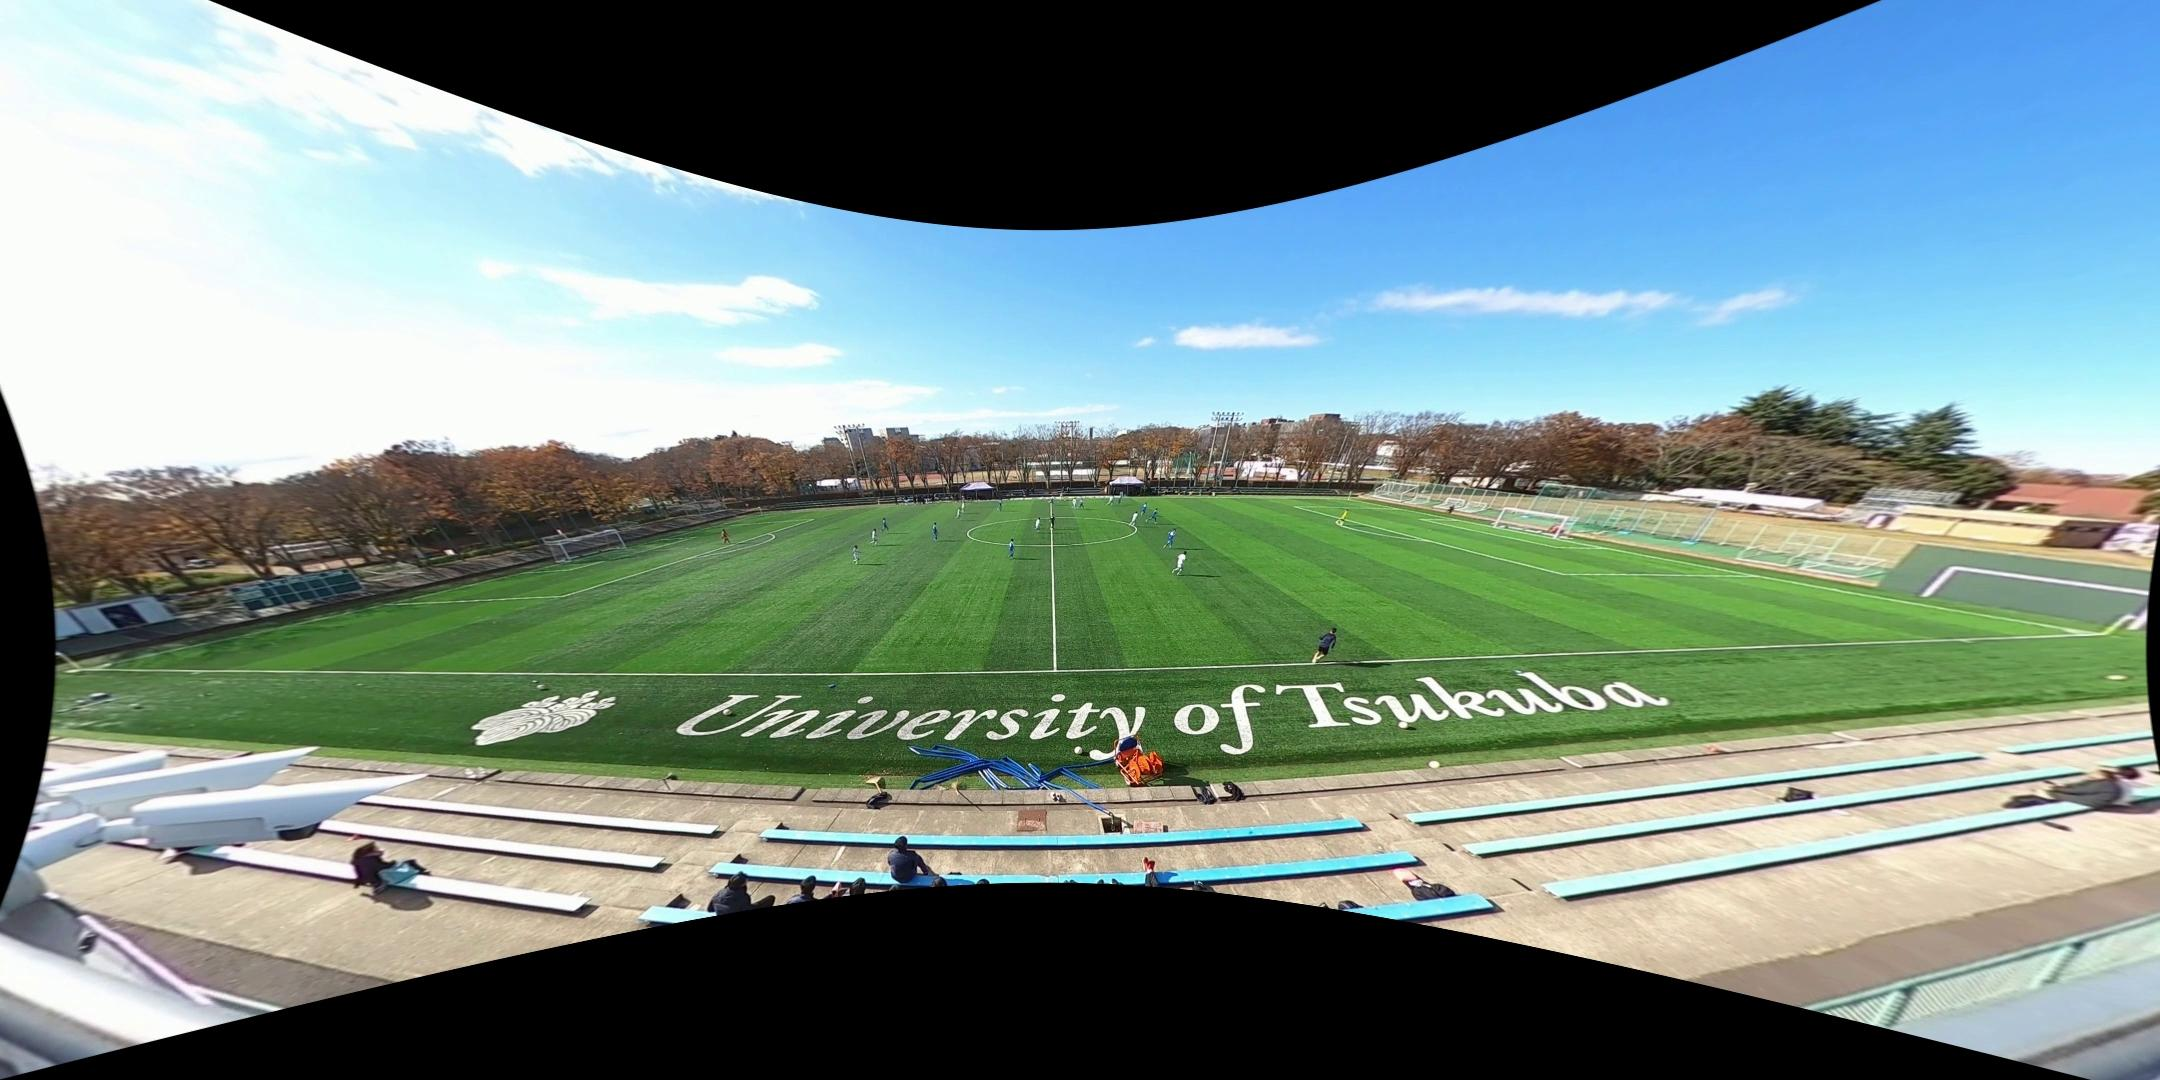person: (1314, 626, 1341, 663), (1172, 551, 1186, 577), (1163, 529, 1176, 549), (1145, 508, 1160, 523), (1128, 510, 1139, 530), (720, 528, 732, 546), (931, 522, 941, 543), (1339, 509, 1350, 528), (878, 518, 889, 534), (1047, 513, 1057, 530), (870, 528, 879, 546), (852, 545, 860, 565), (1105, 493, 1115, 507), (1009, 539, 1015, 558), (1070, 498, 1078, 510), (1035, 516, 1041, 532), (961, 500, 966, 516), (1140, 502, 1146, 515), (955, 508, 962, 519), (997, 500, 1003, 512), (1049, 494, 1055, 505), (1079, 499, 1085, 510), (1116, 494, 1122, 505), (1059, 492, 1063, 505)
sports ball: (1063, 498, 1067, 502)
